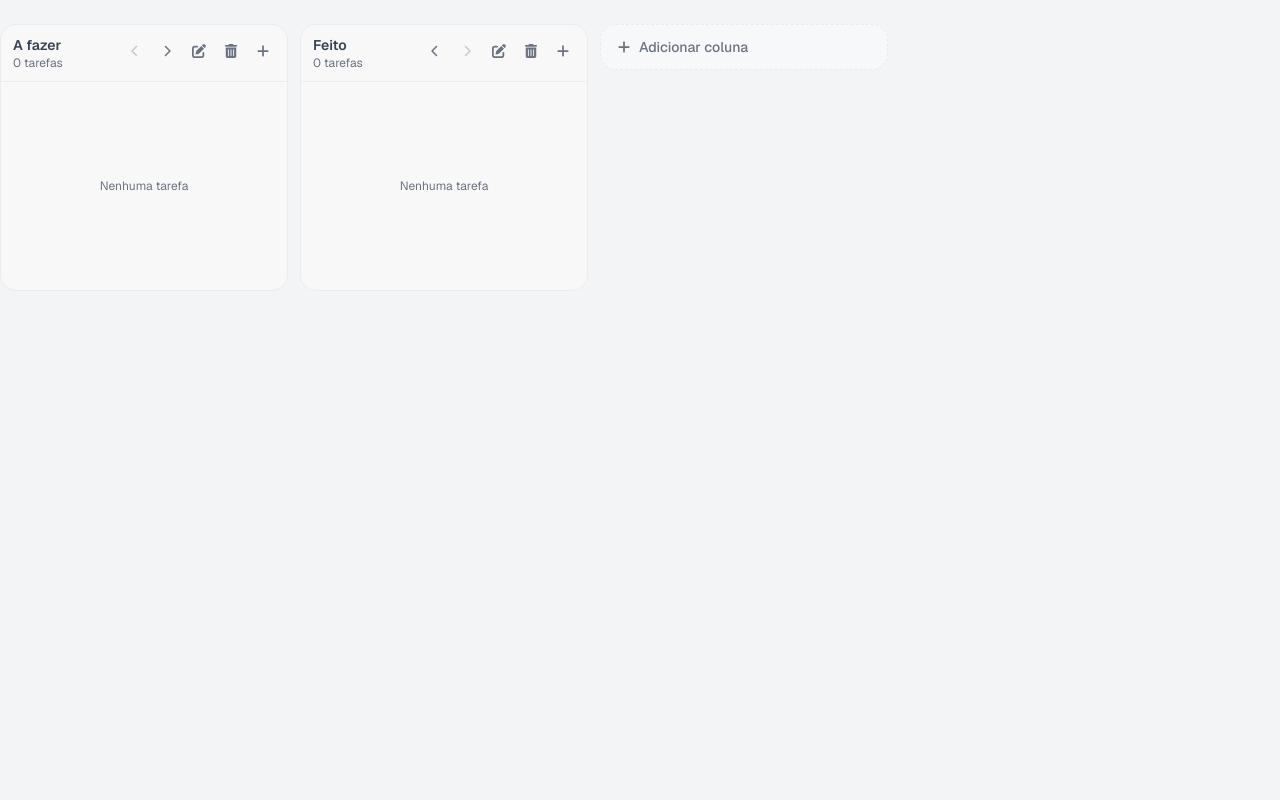
Test case: ProjectKanban › cria tarefa na coluna
Click the button named "Nova tarefa em A fazer" at (263, 51), box [247,35,279,67]
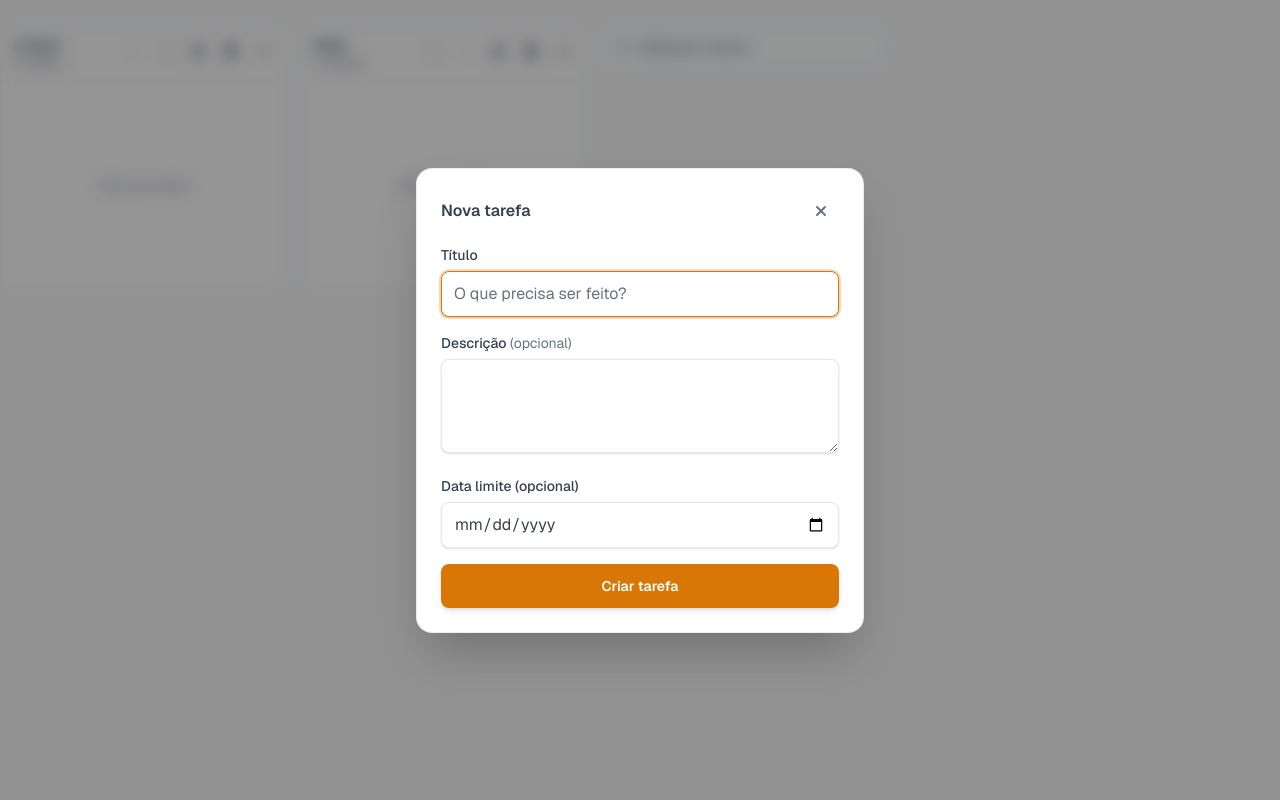
Type "Escrever docs" into the field labelled "Título" at (640, 294), box [441,270,839,316]
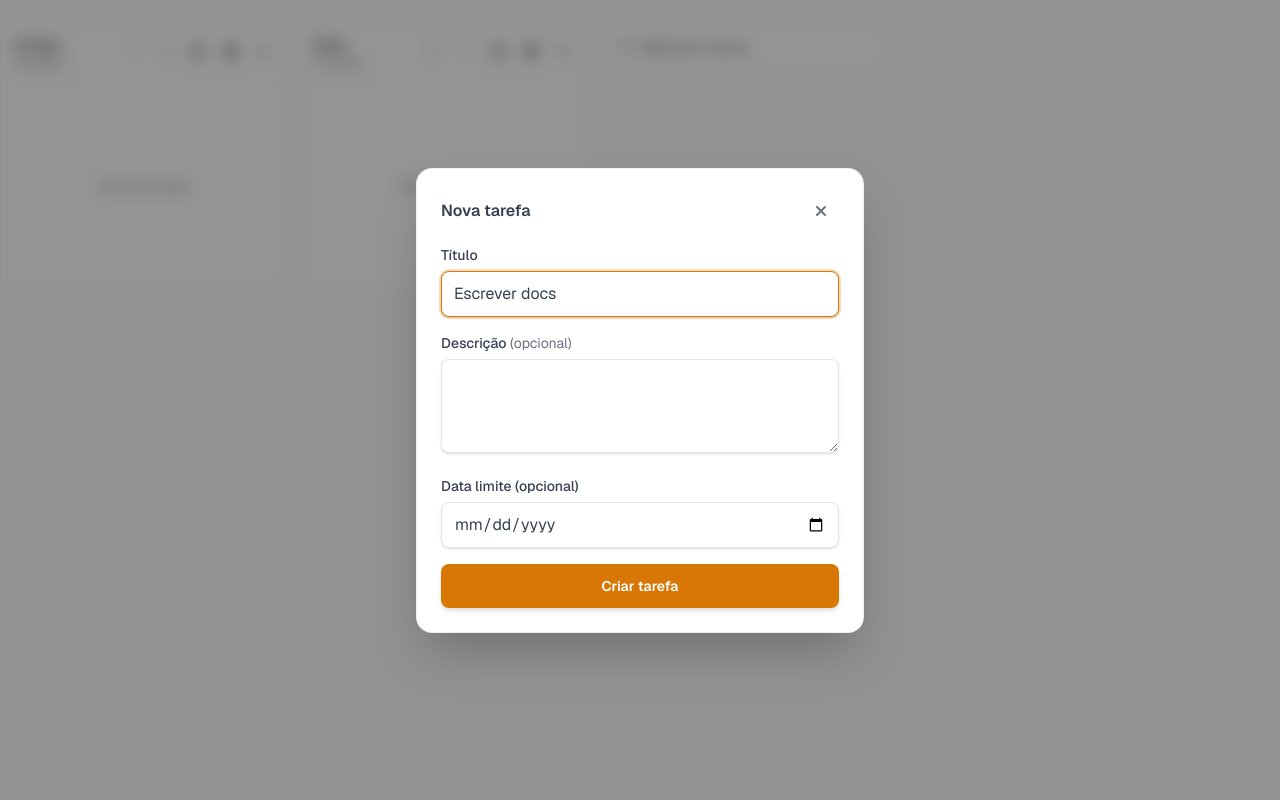
Click the button "Criar tarefa" at (640, 586), box [441,564,839,608]
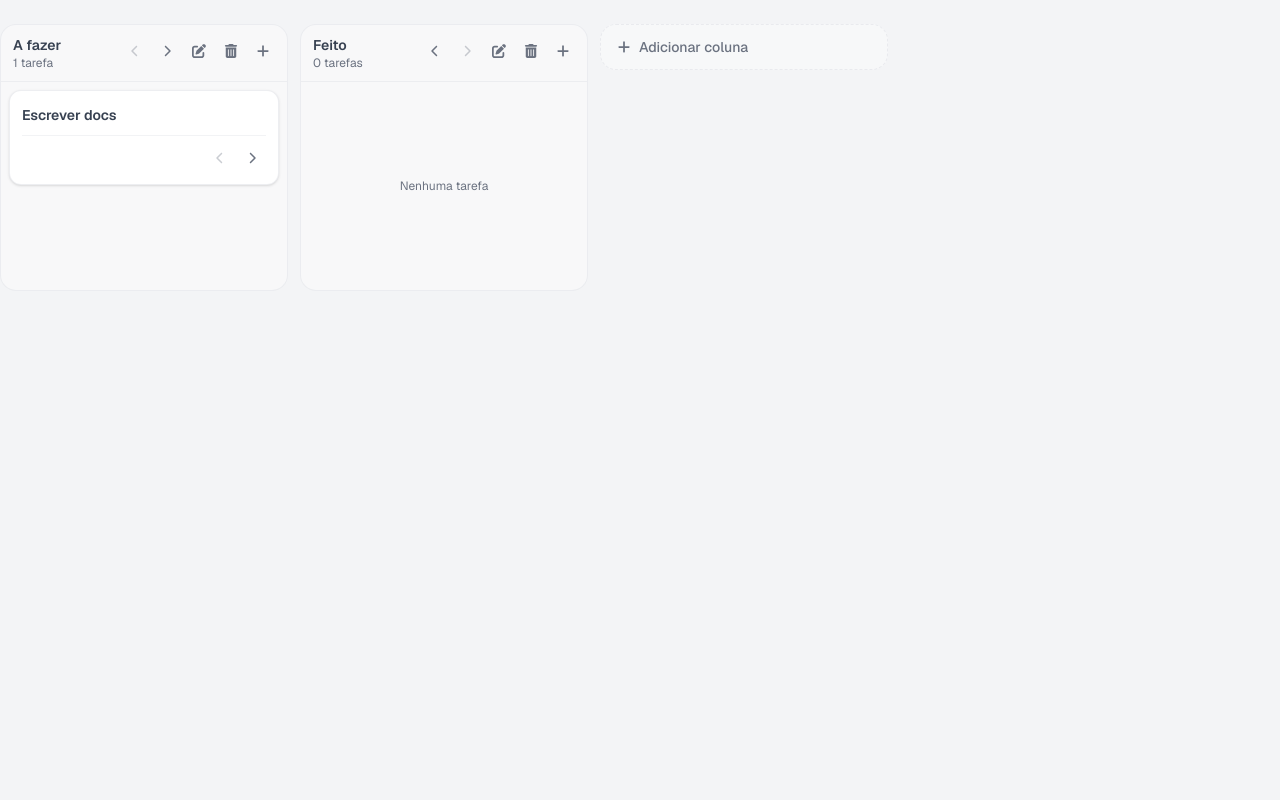
expect the text "Escrever docs" is shown: met, box [22,106,116,124]
